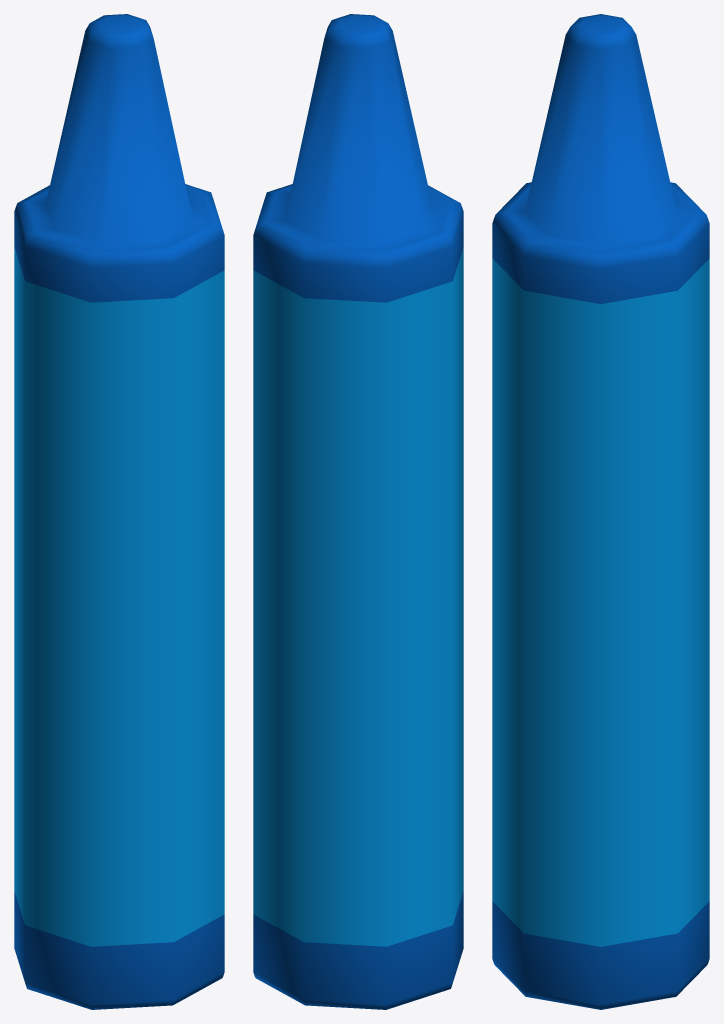
Rendered from CrayonBlue.fbx.
3 renders of one model, left to right at view 1: azimuth 30°, elevation 25°; view 2: azimuth 150°, elevation 25°; view 3: azimuth 270°, elevation 25°, orthographic.
Parts seen in each view (by area): view 1: CrayonBlue; view 2: CrayonBlue; view 3: CrayonBlue.
Boxes of the visible parts, x1,y1,x2,y2 form: CrayonBlue: (14, 14, 224, 1009); CrayonBlue: (253, 14, 463, 1009); CrayonBlue: (492, 14, 709, 1009).
Bounding box in the file's own units: 2.1 × 10.01 × 2.1.
